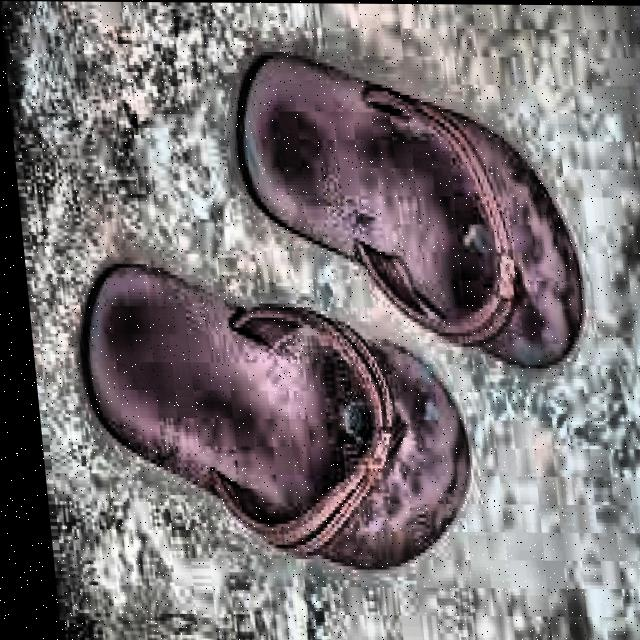shoes: (63, 26, 626, 580)
